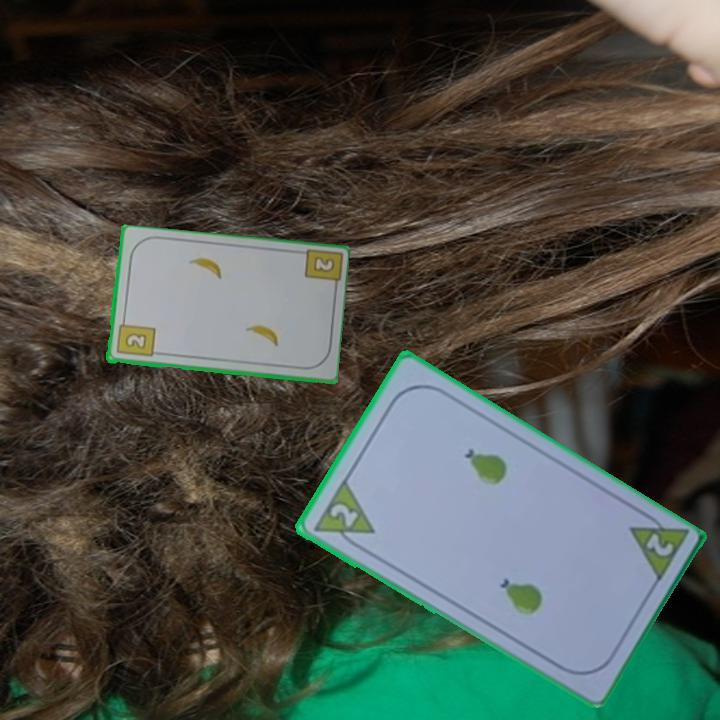2b: (113, 315, 157, 360), (312, 255, 335, 274)
2p: (309, 476, 377, 554), (641, 529, 676, 560)
